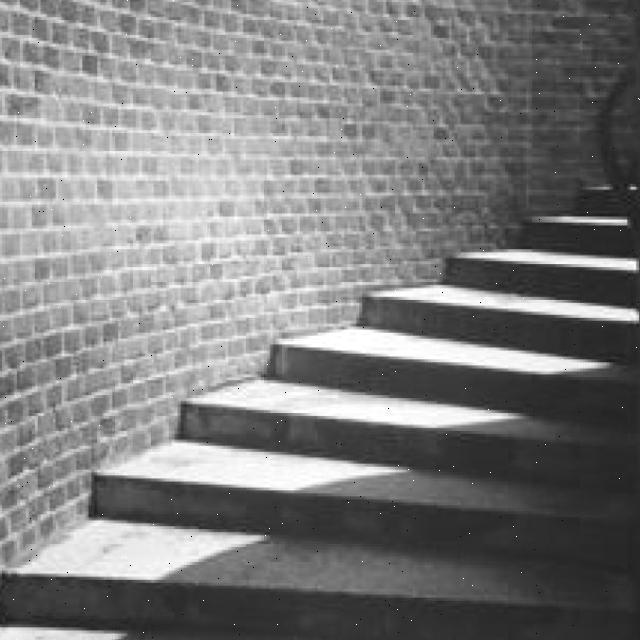stair: (29, 390, 529, 622)
